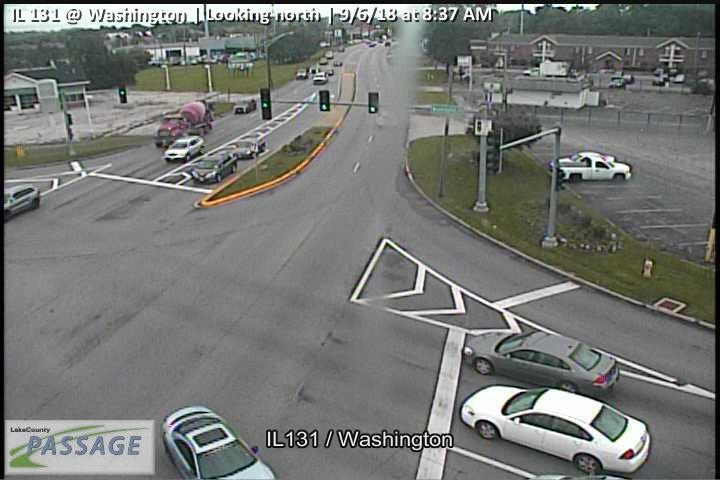SUV: (160, 406, 276, 480), (190, 151, 238, 183), (4, 184, 41, 222), (162, 135, 206, 162), (232, 98, 257, 114), (312, 71, 328, 84), (295, 67, 308, 79)
Sedan: (458, 382, 651, 475), (460, 328, 619, 399), (232, 138, 265, 160)
Truck: (151, 98, 214, 149), (550, 150, 632, 183)
